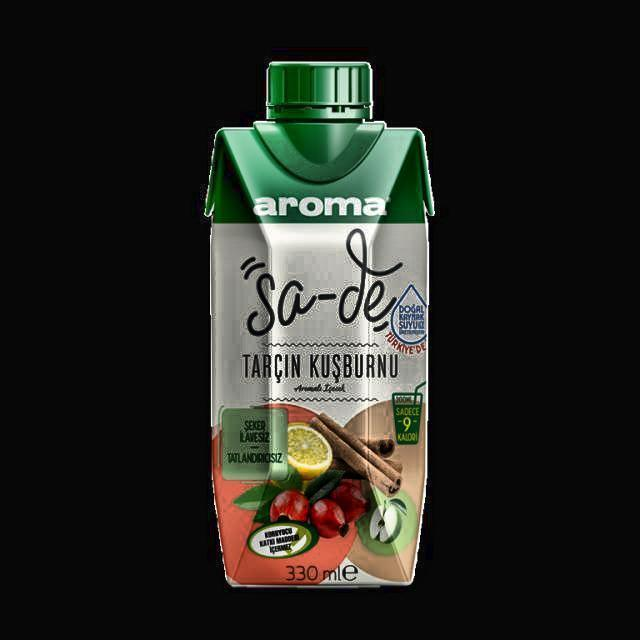cardboard: (204, 62, 434, 589)
